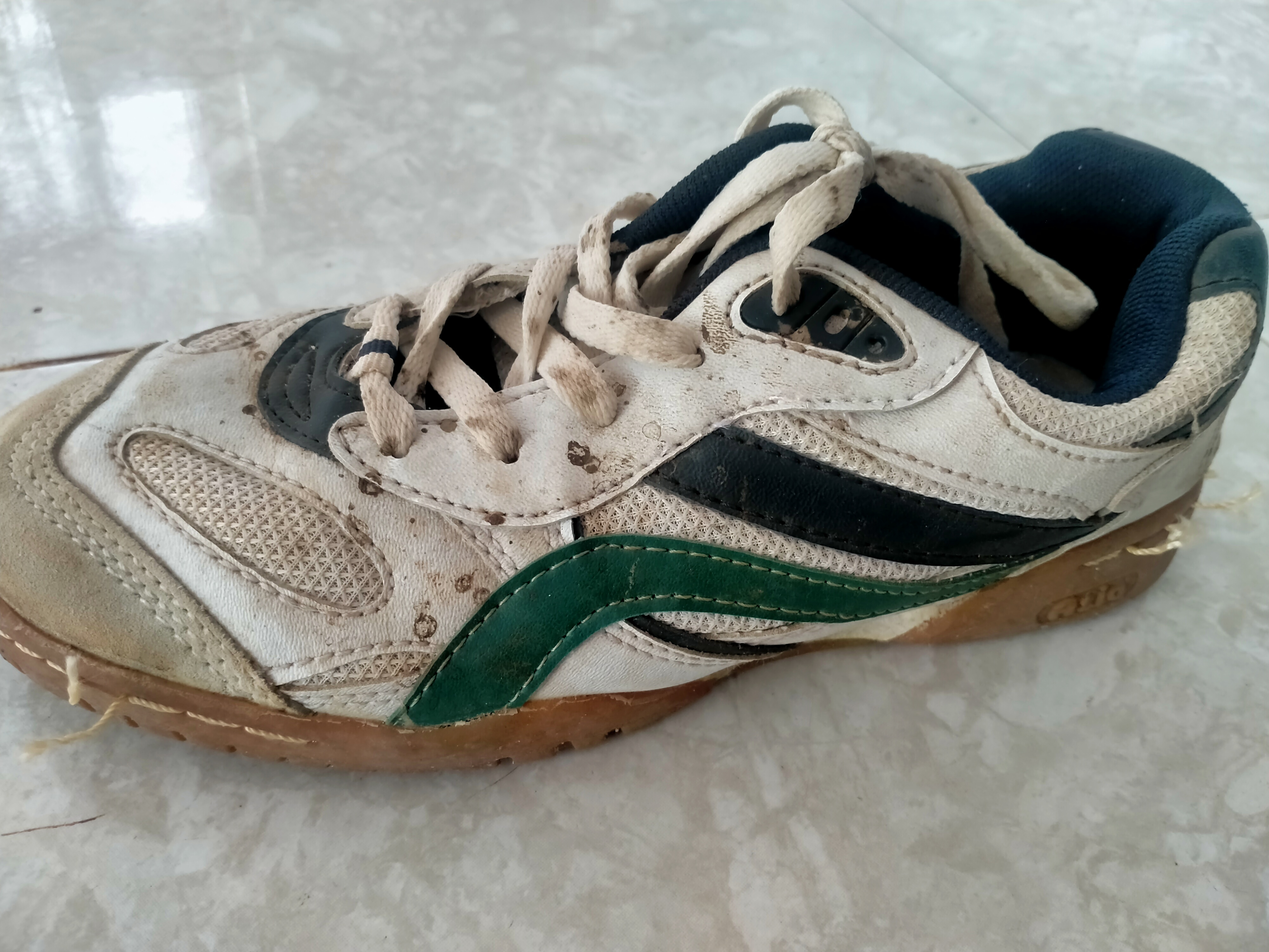broken: (1122, 503, 1202, 570), (58, 664, 141, 724)
